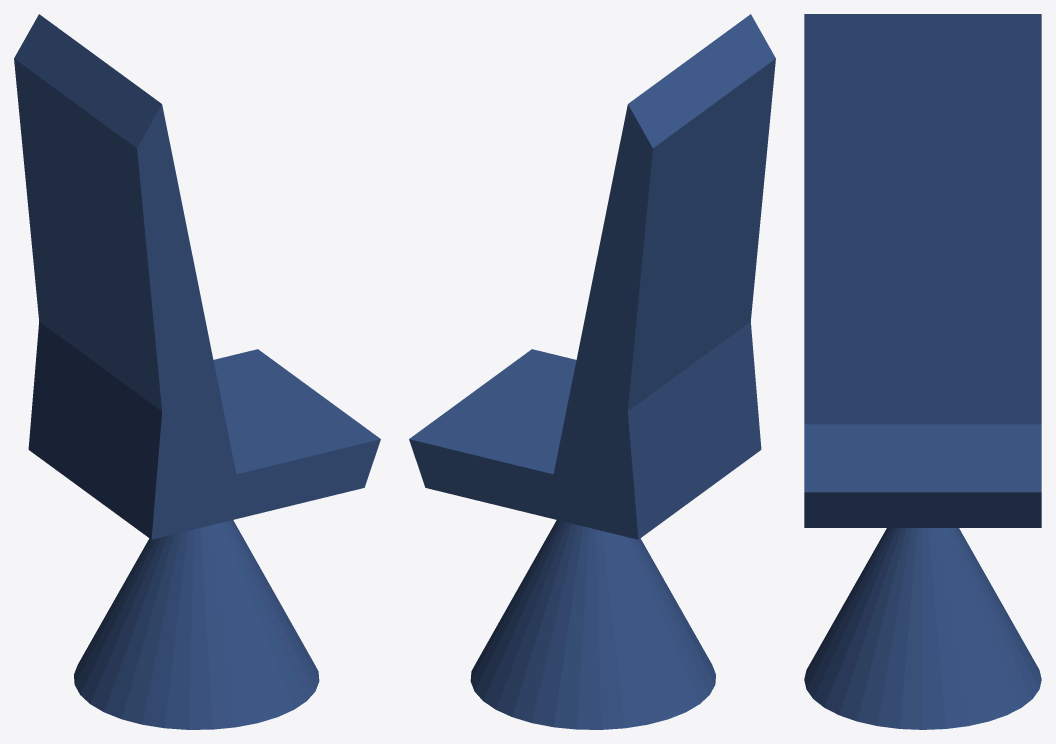
Rendered from Chair_Pass1.fbx.
3 renders of one model, left to right at view 1: azimuth 30°, elevation 25°; view 2: azimuth 150°, elevation 25°; view 3: azimuth 270°, elevation 25°, orthographic. The views are drawn at different scales.
Visible parts, largest first — view 1: Cube; view 2: Cube; view 3: Cube.
Part boxes in pixels (x1,y1,x2,y2): Cube: [14, 14, 380, 729]; Cube: [409, 14, 775, 729]; Cube: [804, 14, 1041, 729].
Bounding box in the file's own units: 2.29 × 5.76 × 2.
